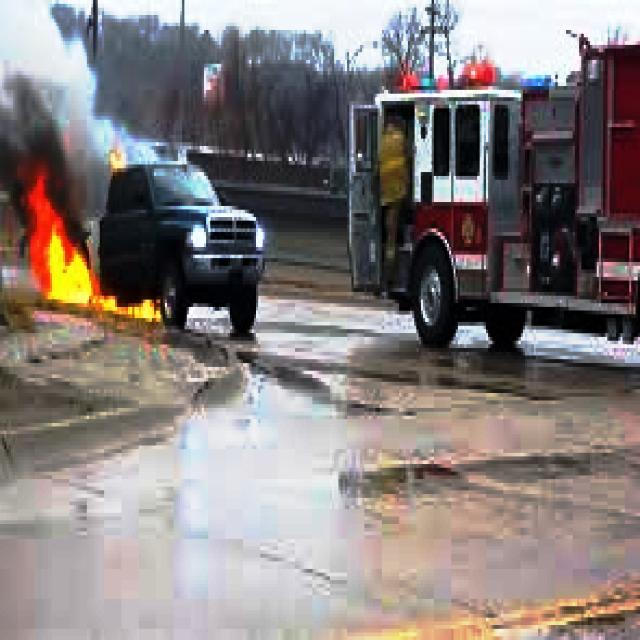api: (10, 147, 170, 345)
